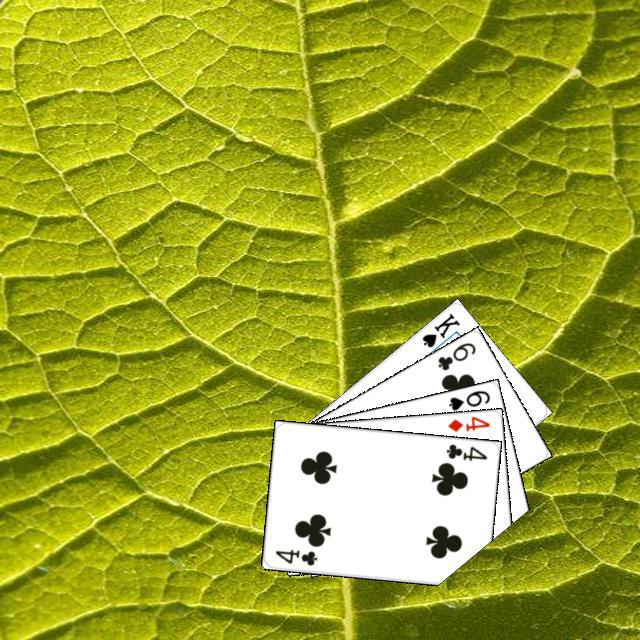4c: (270, 544, 319, 567), (441, 439, 489, 462)
4d: (443, 412, 491, 433)
6c: (433, 337, 478, 372)
6s: (444, 385, 491, 412)
Ks: (417, 308, 462, 349)
